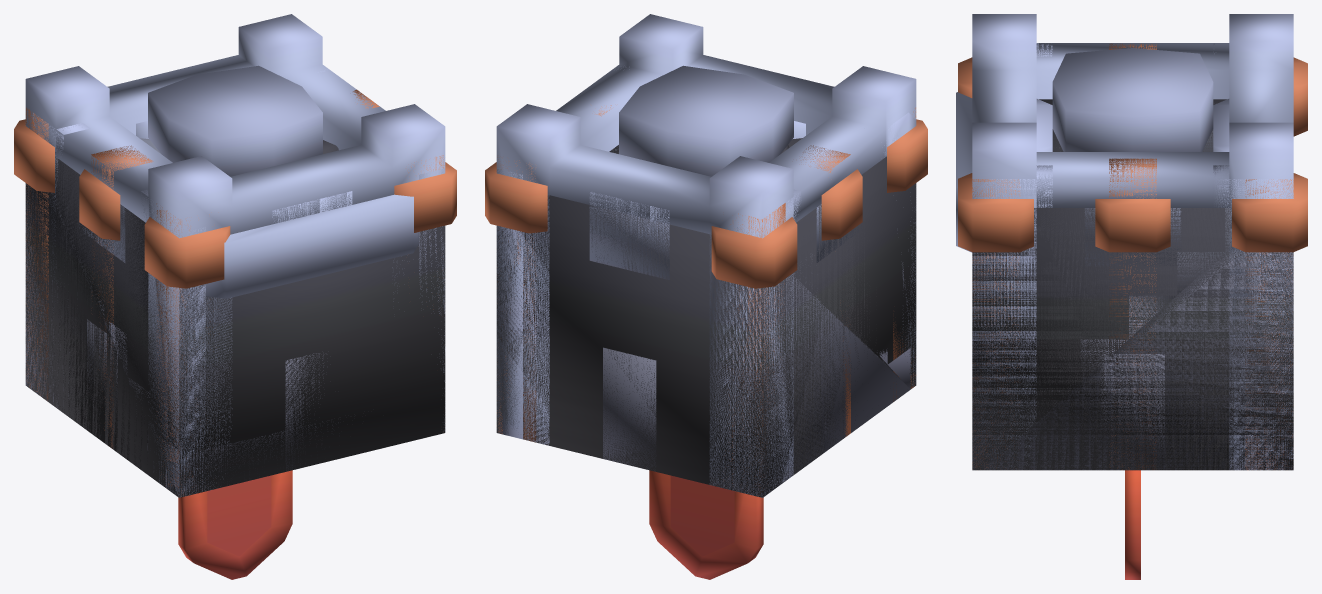
Rendered from kenney_mini_dungeon.glb.
The picture shows the model from 3 angles, left to right: view 1: azimuth 30°, elevation 25°; view 2: azimuth 150°, elevation 25°; view 3: azimuth 270°, elevation 25°; orthographic projection. The views are drawn at different scales.
Parts seen in each view (by area): view 1: dirt, wall, column, wall-narrow, wood-structure, wall-opening, banner, wall-half, wood-support, stairs, rocks; view 2: dirt, wall, wall-narrow, column, stairs, wood-structure, banner, wall-half, rocks, wood-support; view 3: dirt, wall, wall-half, stairs, wall-narrow, column, wood-structure, wood-support, rocks, banner, wall-opening.
Part boxes in pixels (x1,y1,x2,y2): dirt: (25,157,445,497); wall: (25,14,445,497); column: (148,65,322,176); wall-narrow: (25,69,329,468); wood-structure: (14,107,456,497); wall-opening: (179,169,444,494); banner: (178,470,292,579); wall-half: (25,140,445,497); wood-support: (79,89,379,448); stairs: (25,138,338,492); rocks: (87,319,323,471); dirt: (496,138,916,497); wall: (496,14,916,497); wall-narrow: (496,145,839,497); column: (619,65,793,176); stairs: (762,254,910,495); wood-structure: (485,107,927,494); banner: (649,470,763,579); wall-half: (612,112,916,493); rocks: (603,347,835,471); wood-support: (596,105,862,436); dirt: (972,99,1293,470); wall: (972,14,1293,470); wall-half: (972,43,1293,470); stairs: (984,208,1293,470); wall-narrow: (1037,43,1293,470); column: (1052,48,1213,151); wood-structure: (958,57,1307,470); wood-support: (1095,43,1170,469); rocks: (1100,354,1164,470); banner: (1125,470,1140,579); wall-opening: (956,92,1052,252).
Size of the model in its own units: 1.09 by 1.7 by 1.09.
1 material, 1 textured.
